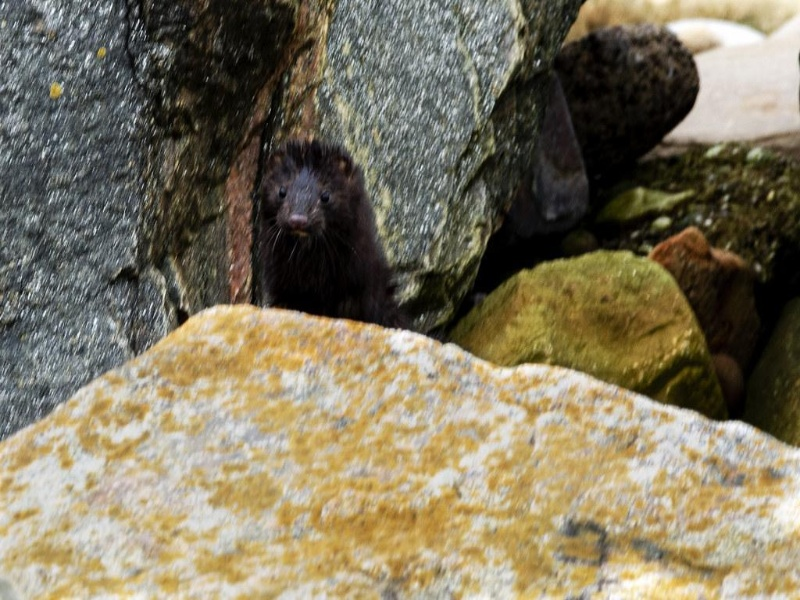minkish: (258, 141, 403, 330)
